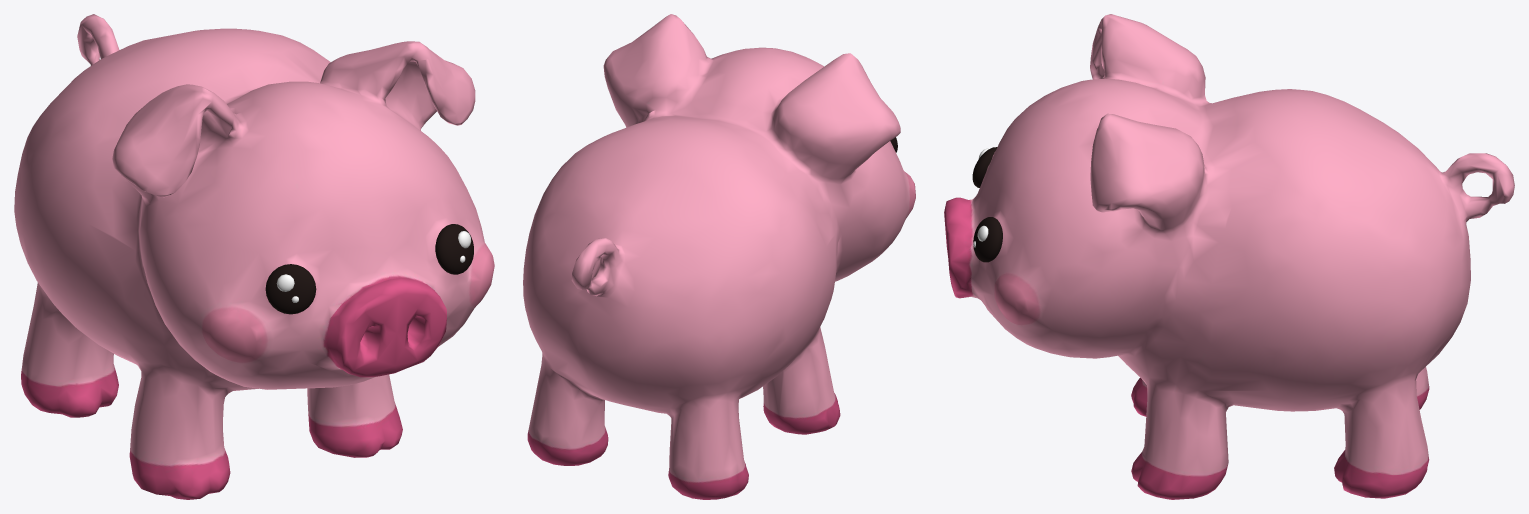
Rendered from pig.glb.
3 renders of one model, left to right at view 1: azimuth 30°, elevation 25°; view 2: azimuth 150°, elevation 25°; view 3: azimuth 270°, elevation 25°, orthographic. The views are drawn at different scales.
Visible parts, largest first — view 1: Mesh_0.001; view 2: Mesh_0.001; view 3: Mesh_0.001.
Part boxes in pixels (left/top/right/bottom): Mesh_0.001: left=14, top=14, right=494, bottom=499; Mesh_0.001: left=523, top=14, right=915, bottom=499; Mesh_0.001: left=944, top=14, right=1514, bottom=499.
Size of the model in its own units: 1.23 by 1.41 by 1.9.
Materials: 1 (1 with a texture image).
